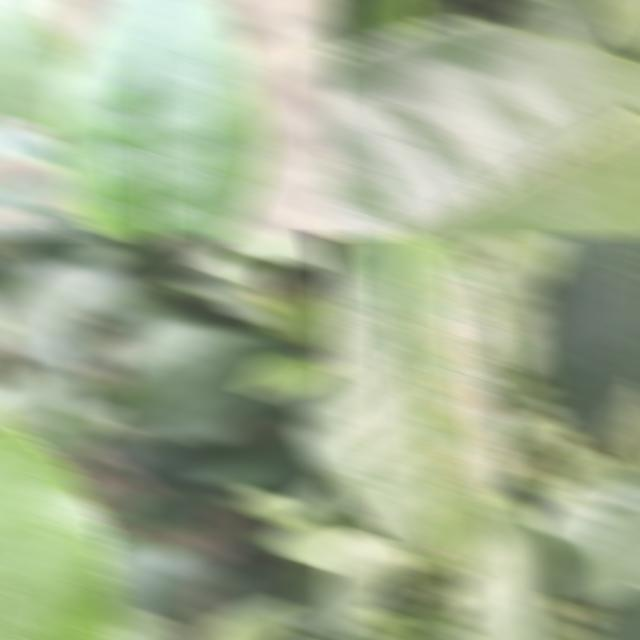Leaf: (326, 18, 640, 238), (326, 234, 520, 571), (51, 0, 267, 238), (0, 403, 122, 640), (531, 234, 640, 474), (103, 334, 305, 444), (455, 499, 571, 640), (530, 455, 640, 600), (3, 263, 99, 377), (0, 0, 76, 131), (326, 529, 417, 634), (98, 523, 159, 611), (293, 372, 338, 491), (327, 0, 423, 54), (140, 545, 206, 618), (477, 245, 547, 312), (200, 595, 295, 640), (202, 234, 326, 266), (238, 354, 324, 400), (269, 517, 338, 571), (282, 574, 338, 638), (589, 588, 640, 640), (593, 0, 640, 56)
